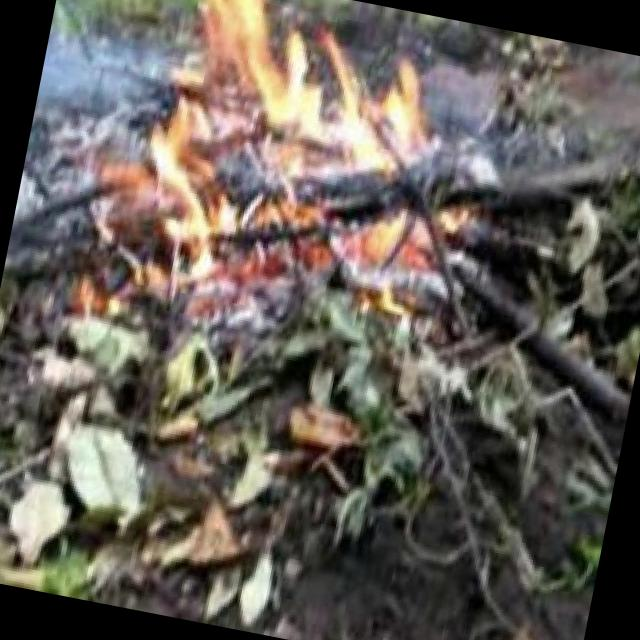Fire: (47, 0, 517, 404)
